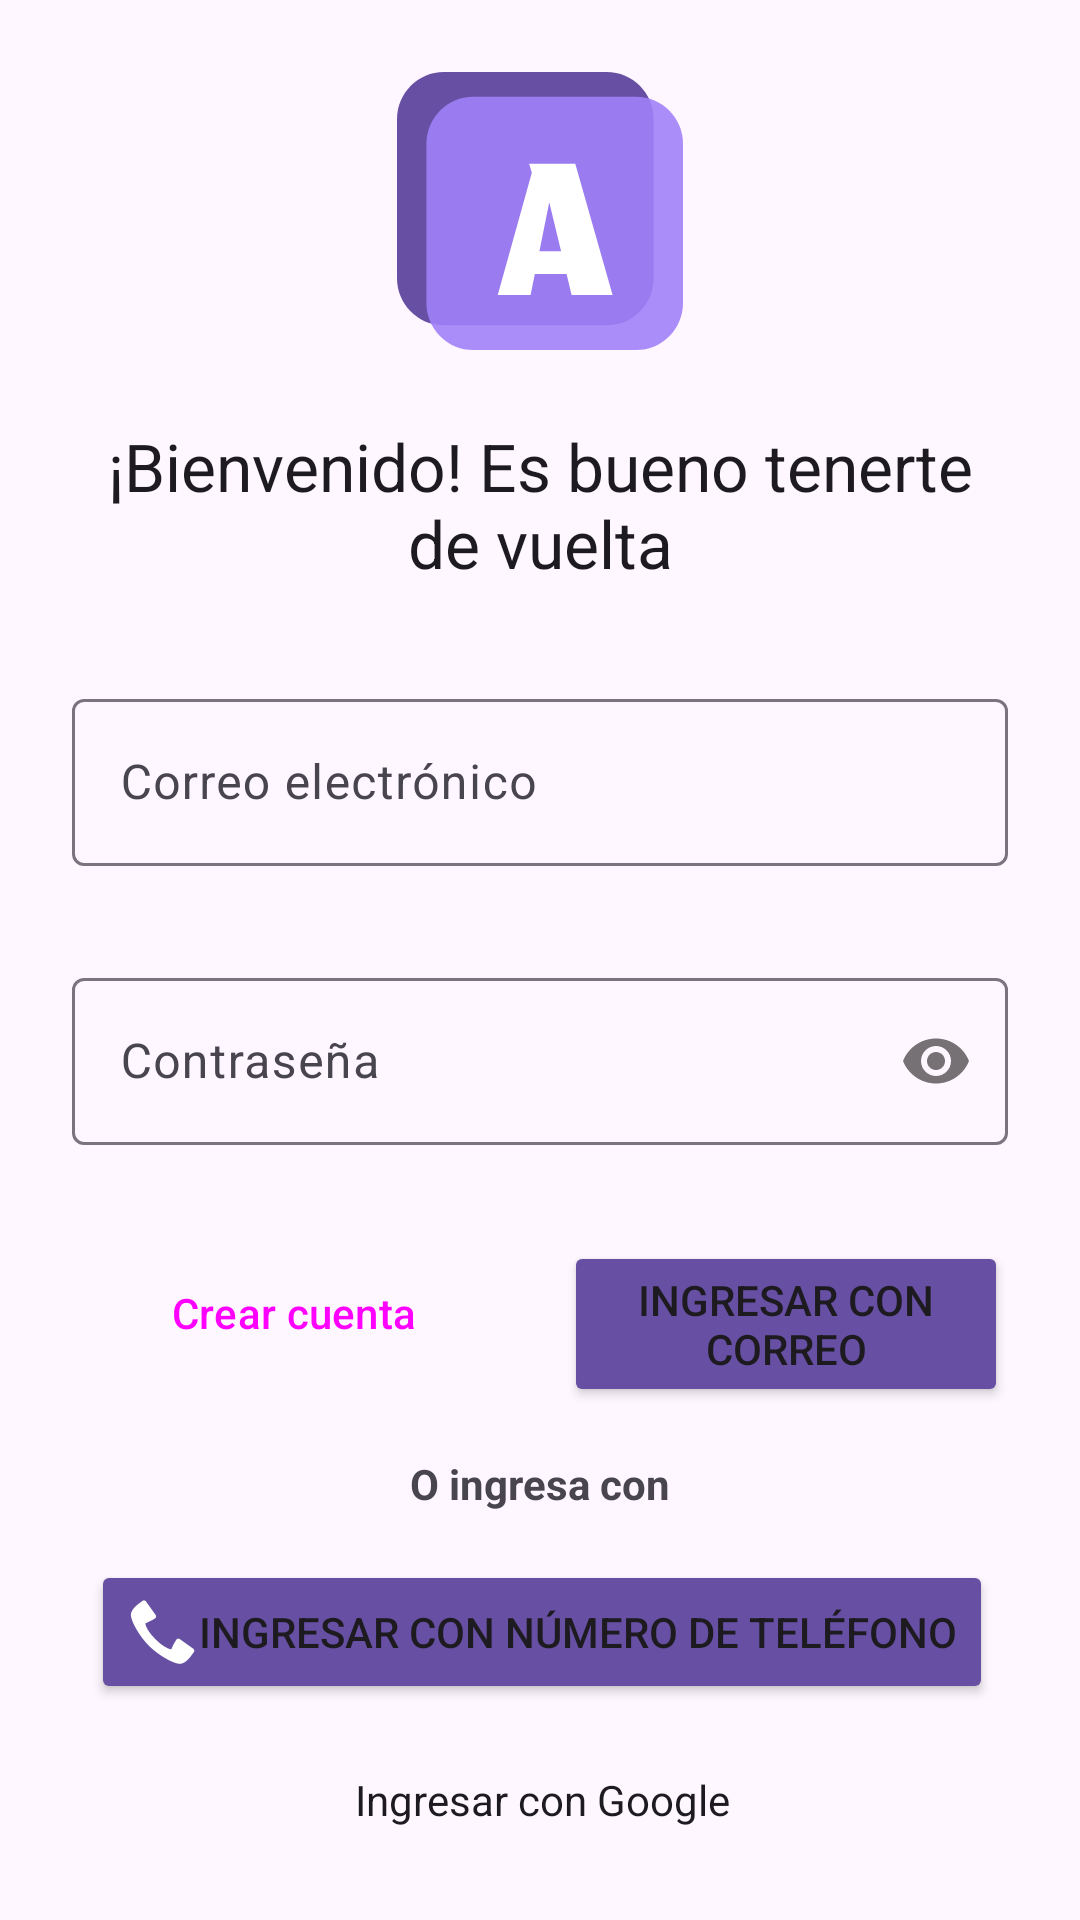

Screen size 1080px x 1920px. Icon name, then its box in pixels as (x1, y1, x2, y2):
app: (397, 72, 683, 350)
